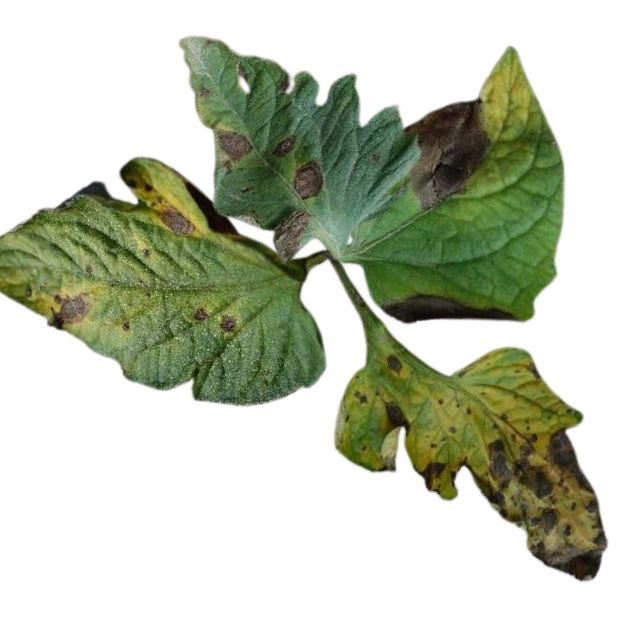Early_blight: (463, 421, 608, 584), (402, 98, 492, 209), (379, 293, 520, 328), (273, 209, 312, 260), (49, 287, 92, 328), (214, 130, 252, 172), (159, 205, 197, 239), (293, 160, 324, 200), (380, 399, 411, 436), (418, 461, 446, 492), (274, 132, 296, 158), (385, 354, 405, 374), (218, 313, 237, 329), (190, 305, 207, 321), (351, 390, 368, 405)
